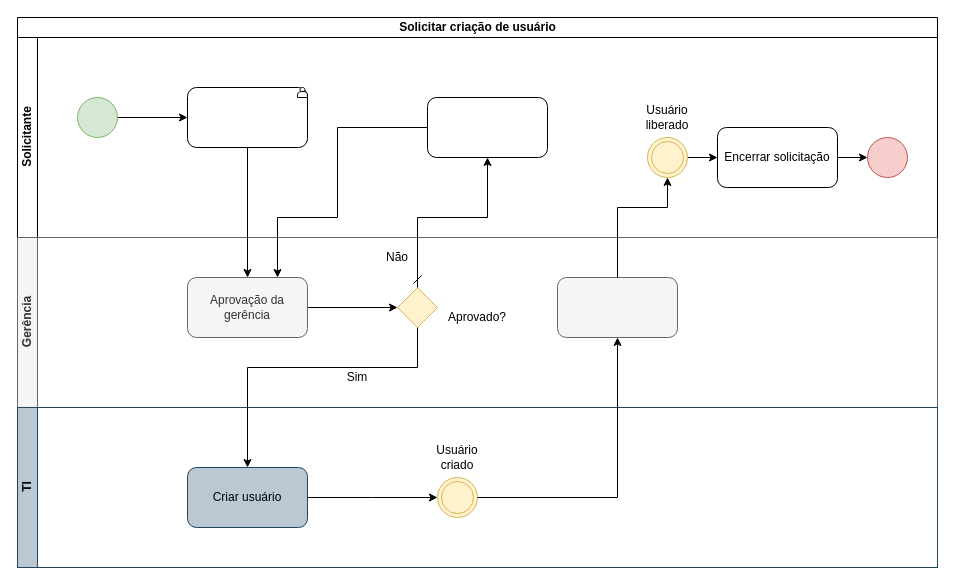
This 955x585 diagram has some shape labels left out. Here are the shapes that lost their labels. From the top down, the centre of each, then its label:
At point 247,117: "Solicita criação de usuário".
At point 487,127: "Revisar dados".
At point 617,307: "Receber e liberar acesso".
